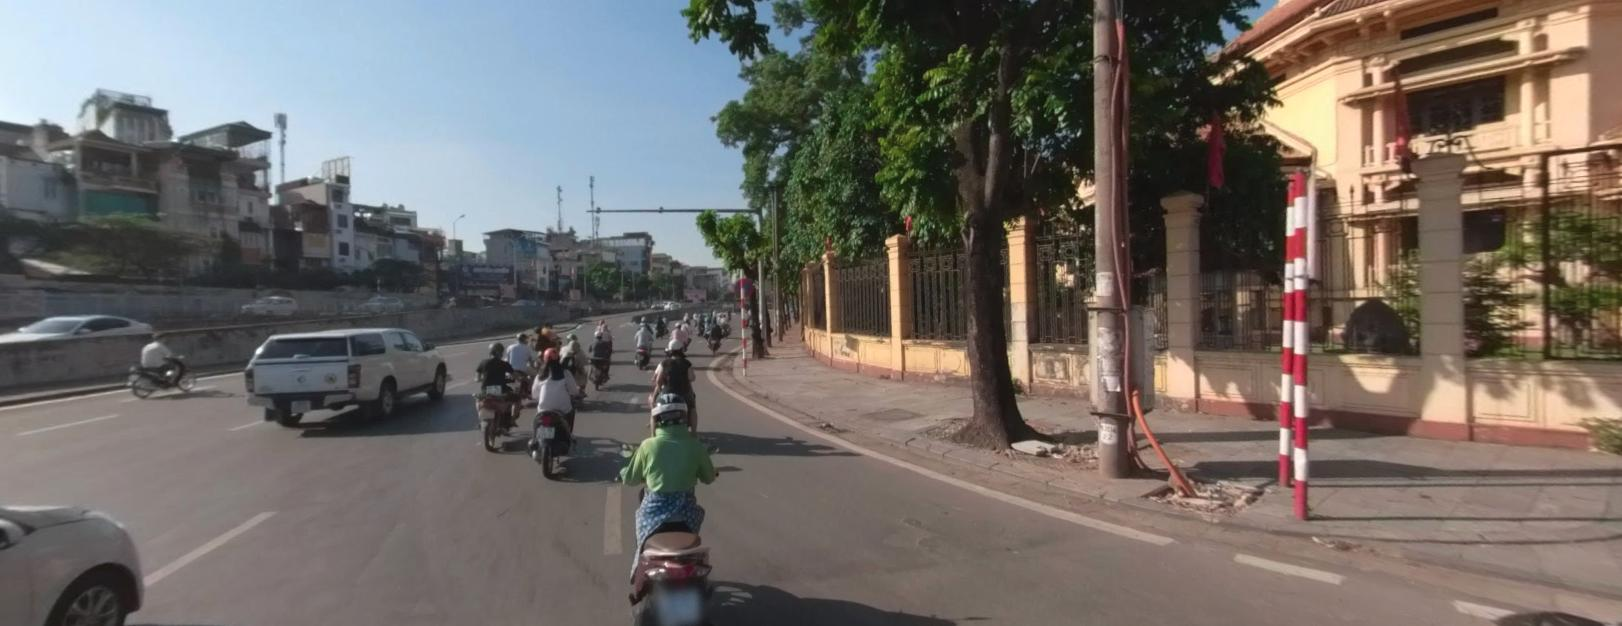Cam dung va do: (734, 276, 755, 295), (735, 276, 753, 295)
